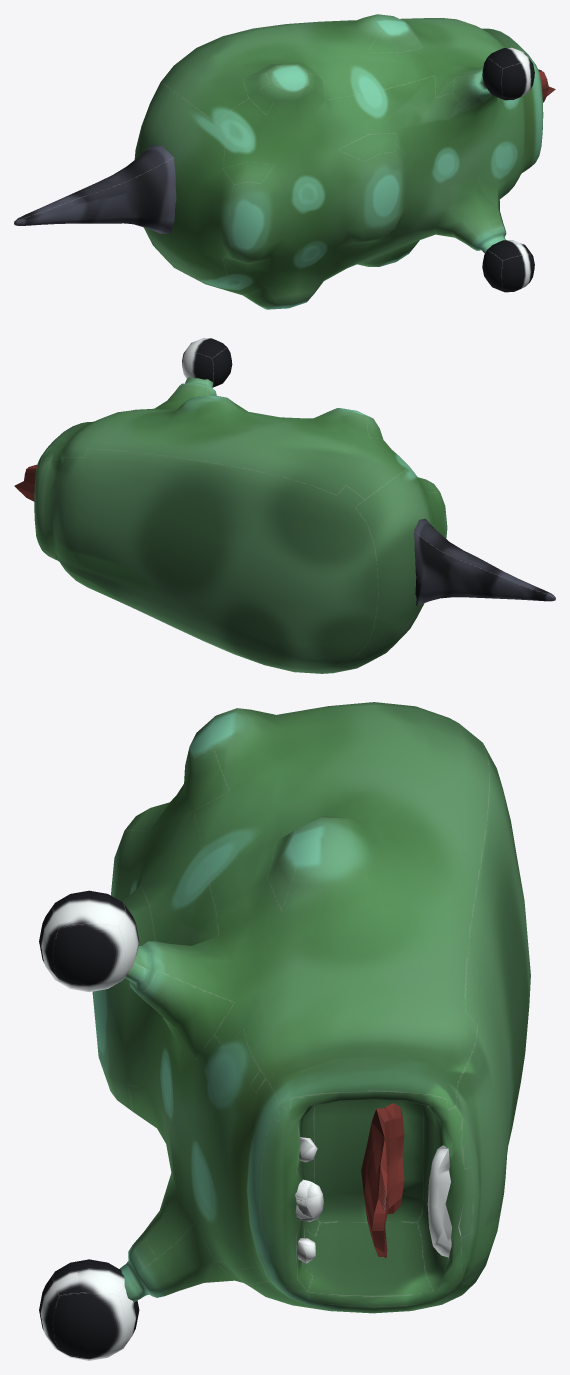
Rendered from enemy1.fbx.
The picture shows the model from 3 angles, top to bottom: view 1: azimuth 30°, elevation 25°; view 2: azimuth 150°, elevation 25°; view 3: azimuth 270°, elevation 25°; orthographic projection. The views are drawn at different scales.
Parts seen in each view (by area): view 1: enemy1.001; view 2: enemy1.001; view 3: enemy1.001.
Boxes of the visible parts, box(x1,y1,x2,y2) form: enemy1.001: box(14, 14, 555, 309); enemy1.001: box(14, 338, 555, 673); enemy1.001: box(39, 702, 530, 1360).
Bounding box in the file's own units: 14.35 × 6.06 × 5.76.
1 material, 1 textured.
